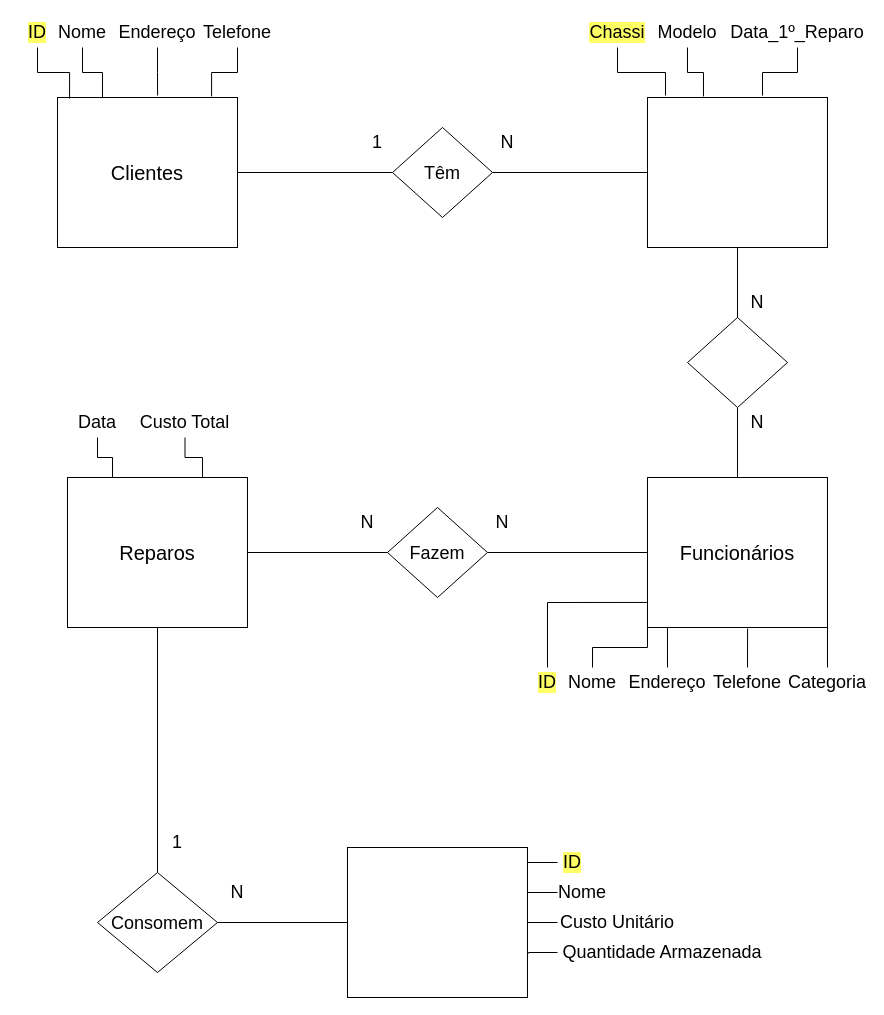
Some shapes in this 884 by 1015 pixel diagram are drawn without their labels. Here are the shapes that lost their labels. From the top down, the centre of each, then its label:
(737,172): Veículos
(737,362): Ocupam
(437,922): Peças
